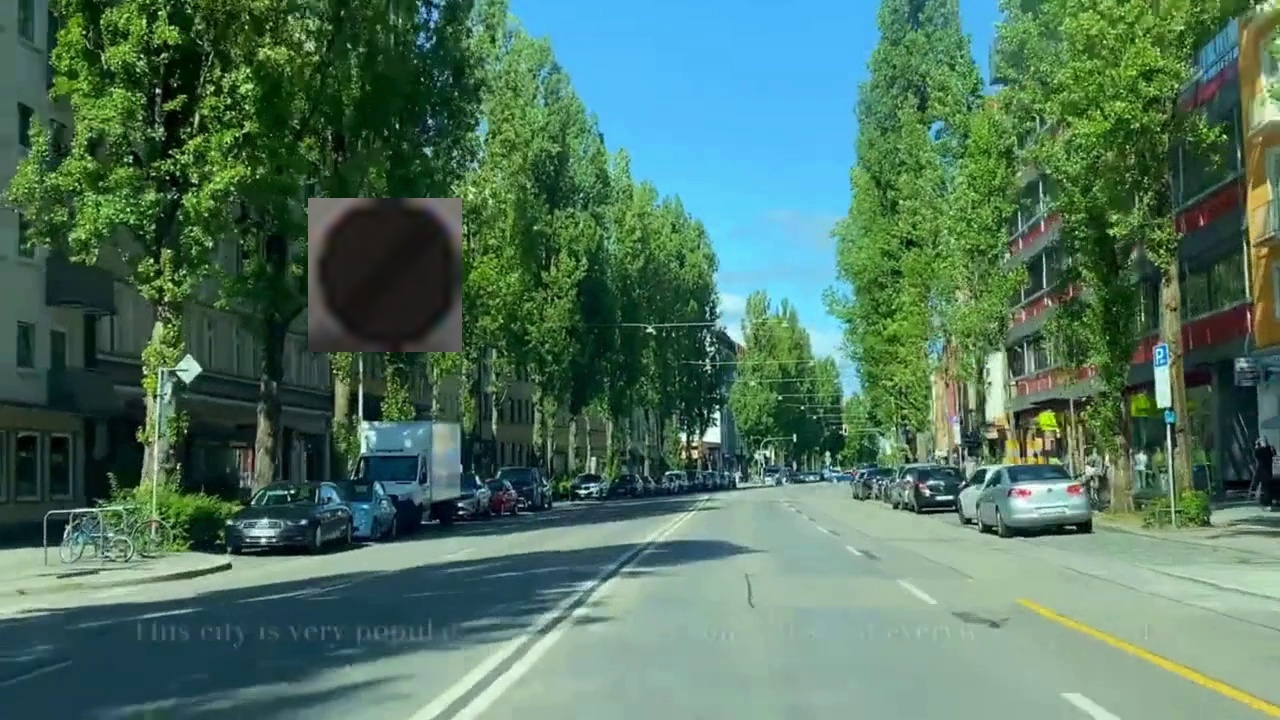End limits: (308, 198, 462, 352)
